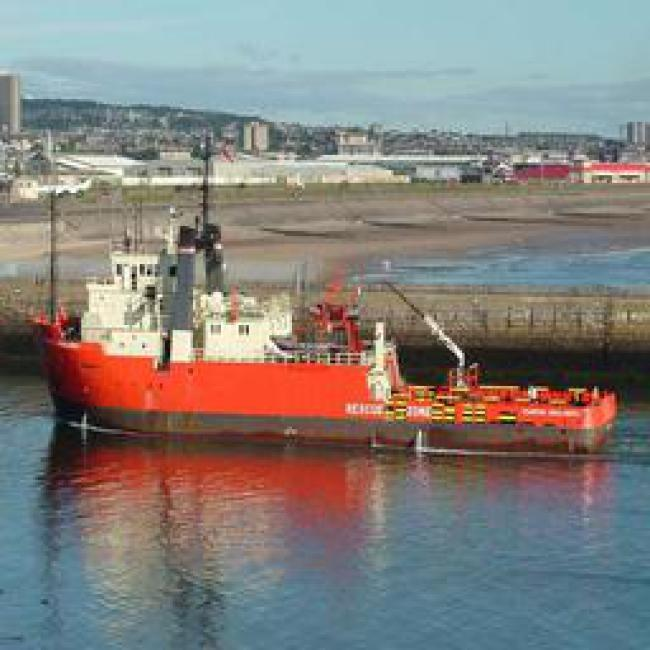Ship: (33, 277, 614, 456)
